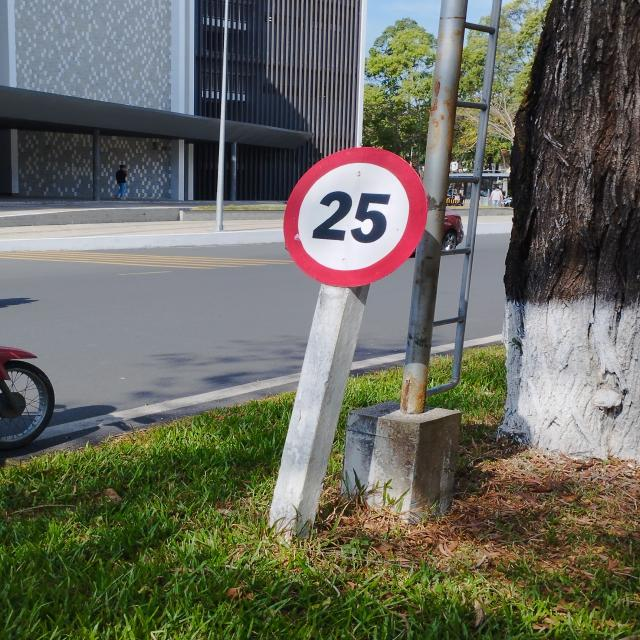Tre_Em: (280, 147, 428, 287)
